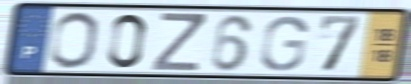0: (107, 12, 148, 70)
6: (209, 13, 255, 73)
7: (318, 14, 364, 75)
G: (258, 14, 310, 73)
O: (47, 10, 100, 71)
Z: (150, 10, 208, 73)
